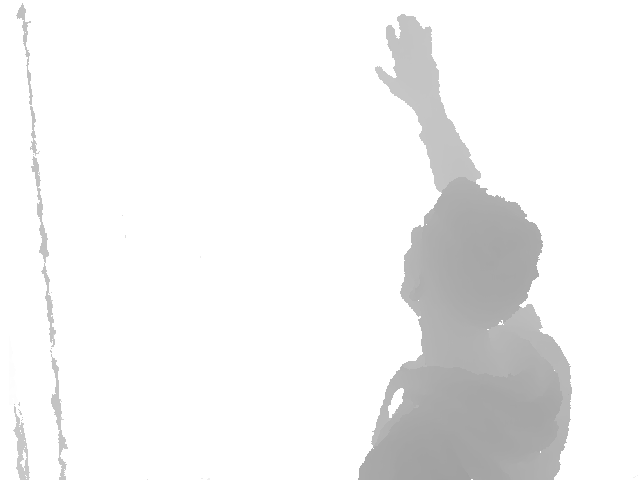hand: (375, 13, 440, 99)
head: (400, 176, 544, 336)
person: (356, 12, 575, 480)
